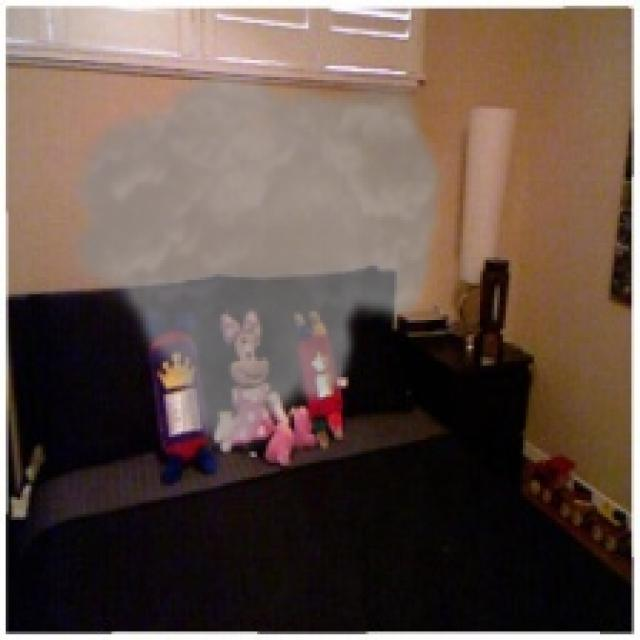smoke: (60, 66, 451, 460)
